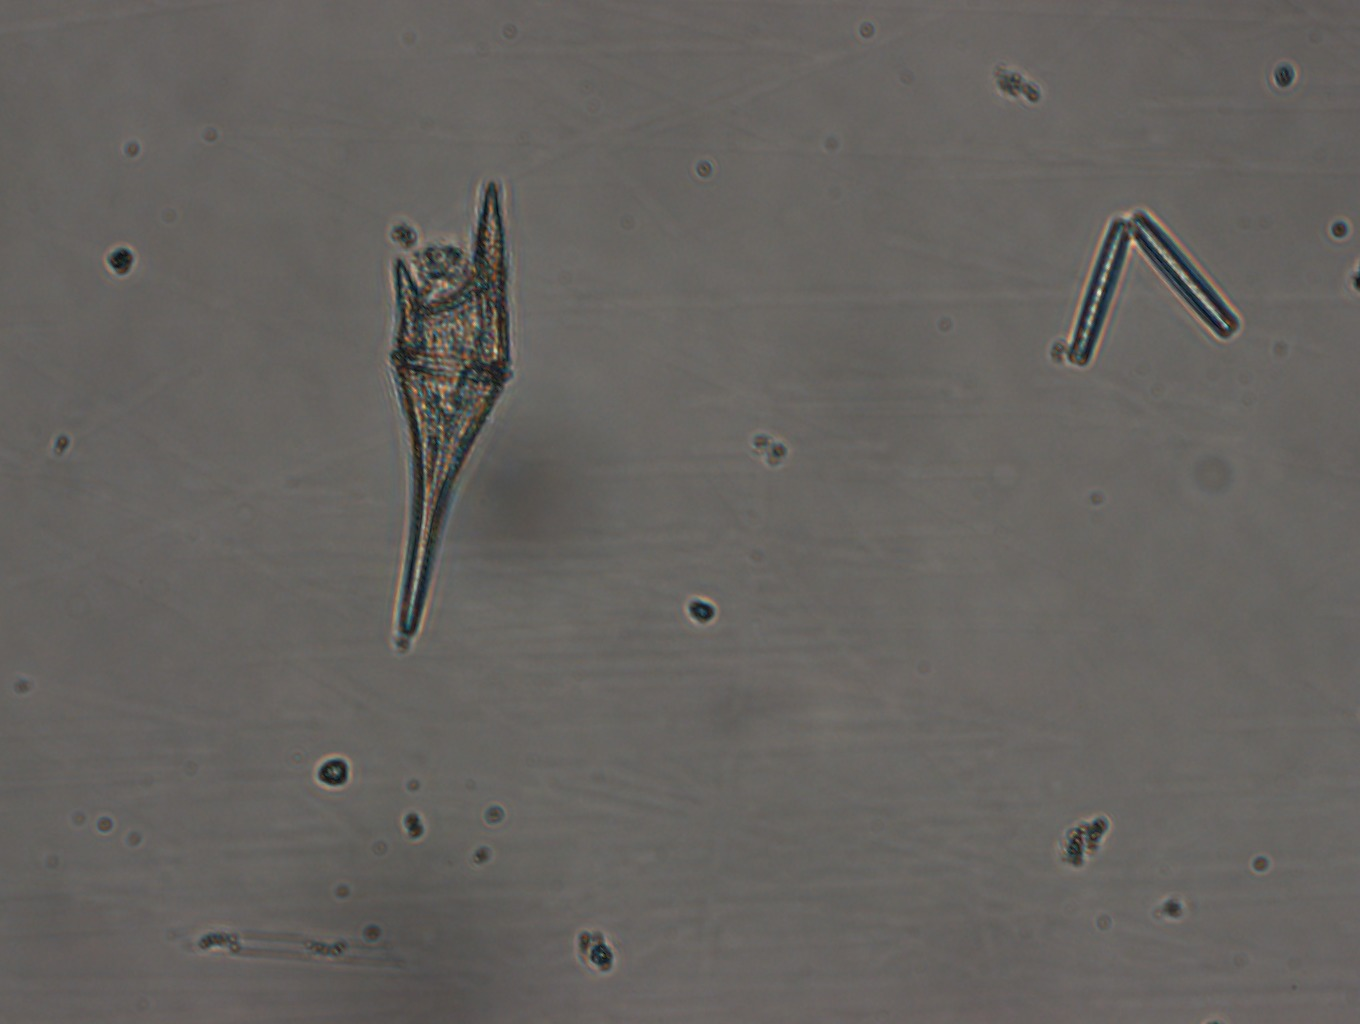ceratium furca: (380, 169, 524, 648)
thalassionema nitzschioides: (1061, 190, 1248, 371)
